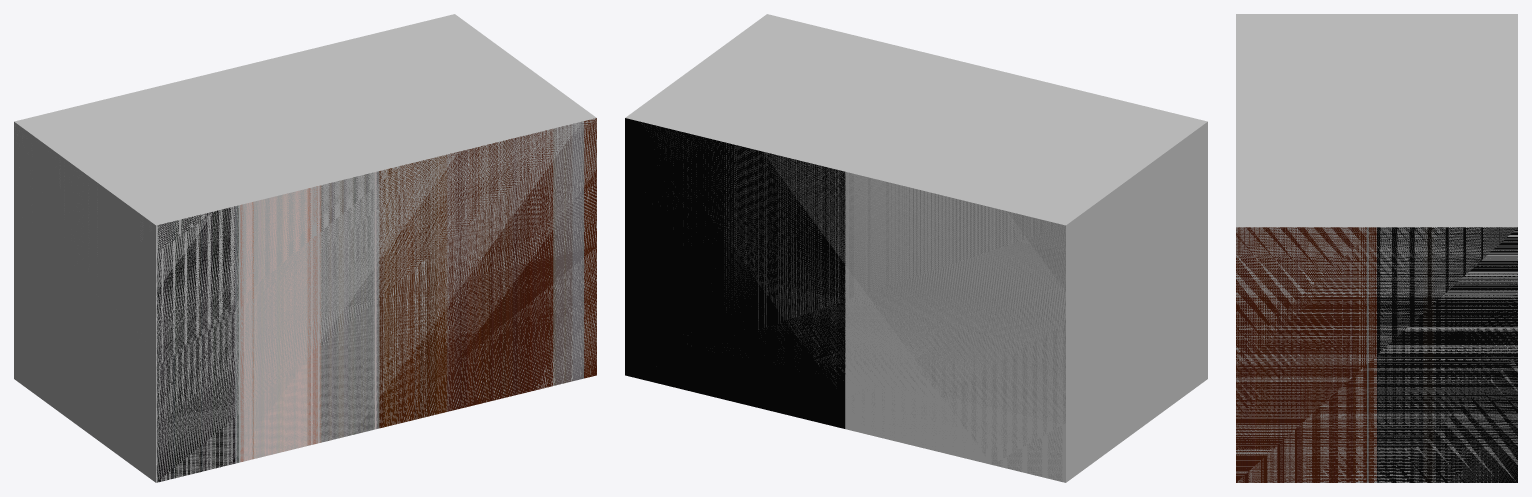
The model's file is couch.DAE.
The picture shows the model from 3 angles, left to right: view 1: azimuth 30°, elevation 25°; view 2: azimuth 150°, elevation 25°; view 3: azimuth 270°, elevation 25°; orthographic projection.
Parts seen in each view (by area): view 1: bounds, colbox-1; view 2: bounds, colbox-1; view 3: bounds, colbox-1.
Part boxes in pixels (x1,y1,x2,y2): bounds: (14,14,596,482); colbox-1: (14,118,596,482); bounds: (625,14,1207,482); colbox-1: (625,118,1065,482); bounds: (1236,14,1517,482); colbox-1: (1236,227,1517,482).
Size of the model in its own units: 192 by 107 by 107.
